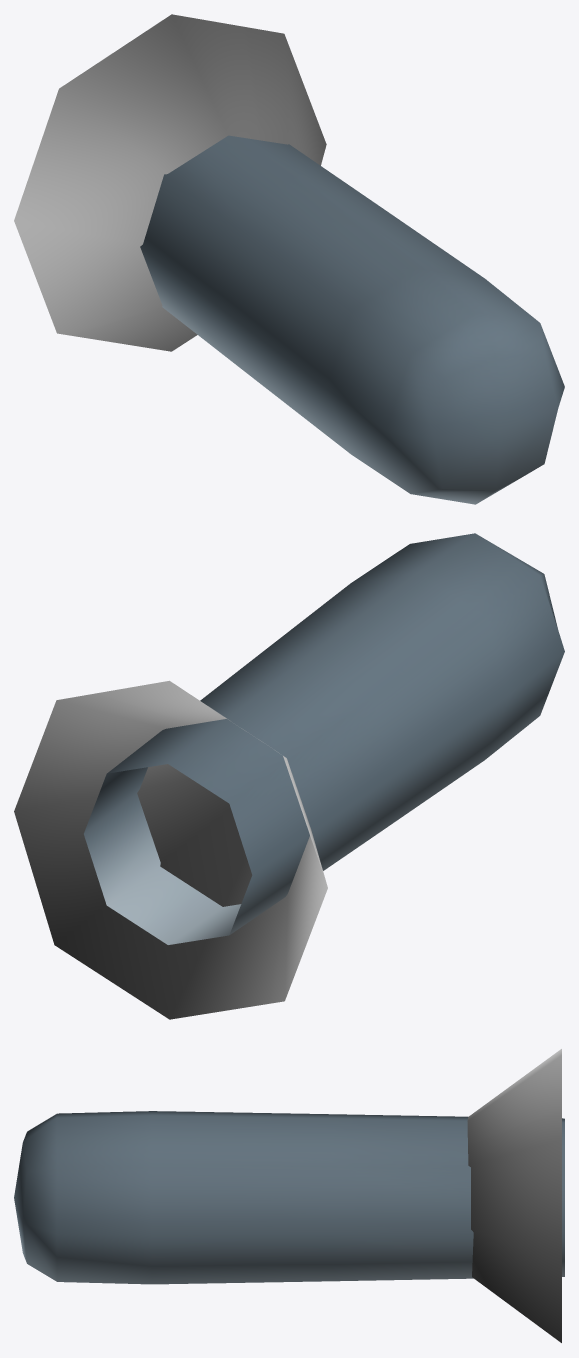
Rendered from SM_Peg_Model_01.fbx.
3 views of the same model, one above another, from view 1: azimuth 30°, elevation 25°; view 2: azimuth 150°, elevation 25°; view 3: azimuth 270°, elevation 25° (orthographic). The views are drawn at different scales.
Visible parts, largest first — view 1: SM_Peg_Instance_01; view 2: SM_Peg_Instance_01; view 3: SM_Peg_Instance_01.
Boxes of the visible parts, bbox=[...] form: SM_Peg_Instance_01: bbox=[14, 14, 564, 504]; SM_Peg_Instance_01: bbox=[14, 533, 564, 1019]; SM_Peg_Instance_01: bbox=[14, 1049, 564, 1342].
Bounding box in the file's own units: 0.0283 × 0.0292 × 0.052.
